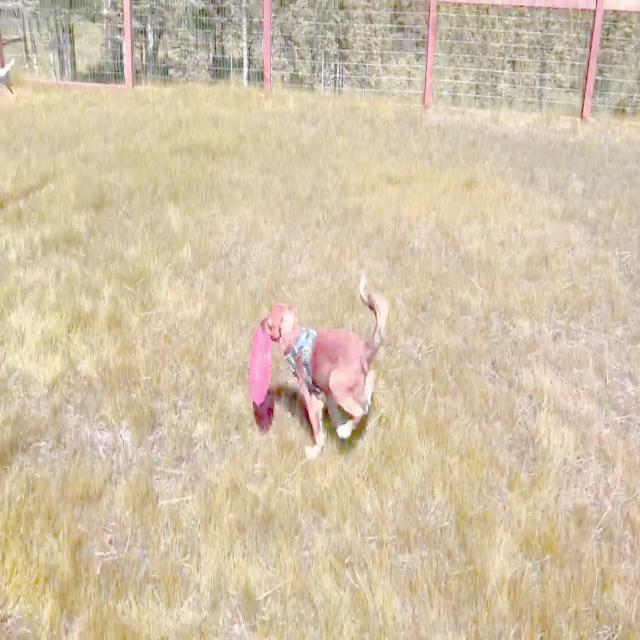Dog: (260, 271, 389, 462)
